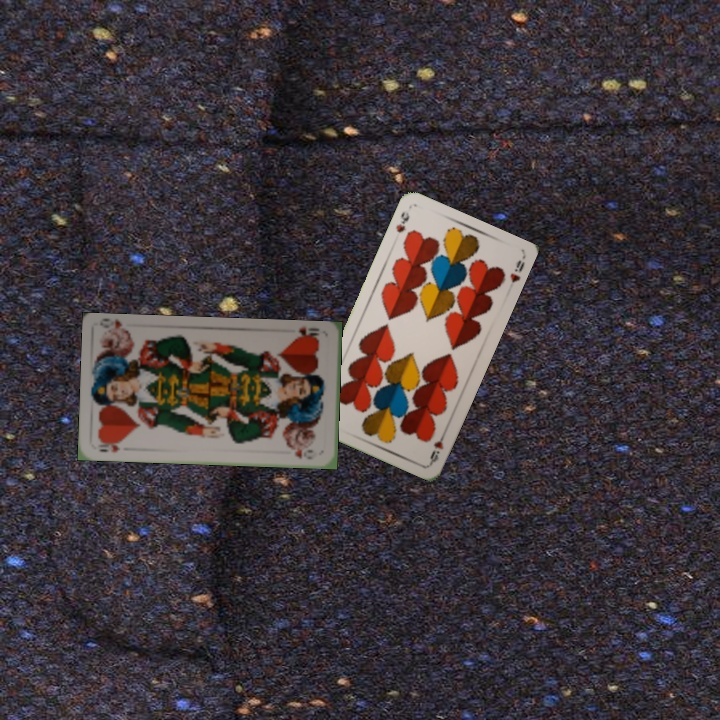H9: (426, 426, 449, 465), (392, 207, 412, 236)
HO: (290, 323, 322, 343), (94, 437, 125, 454)
